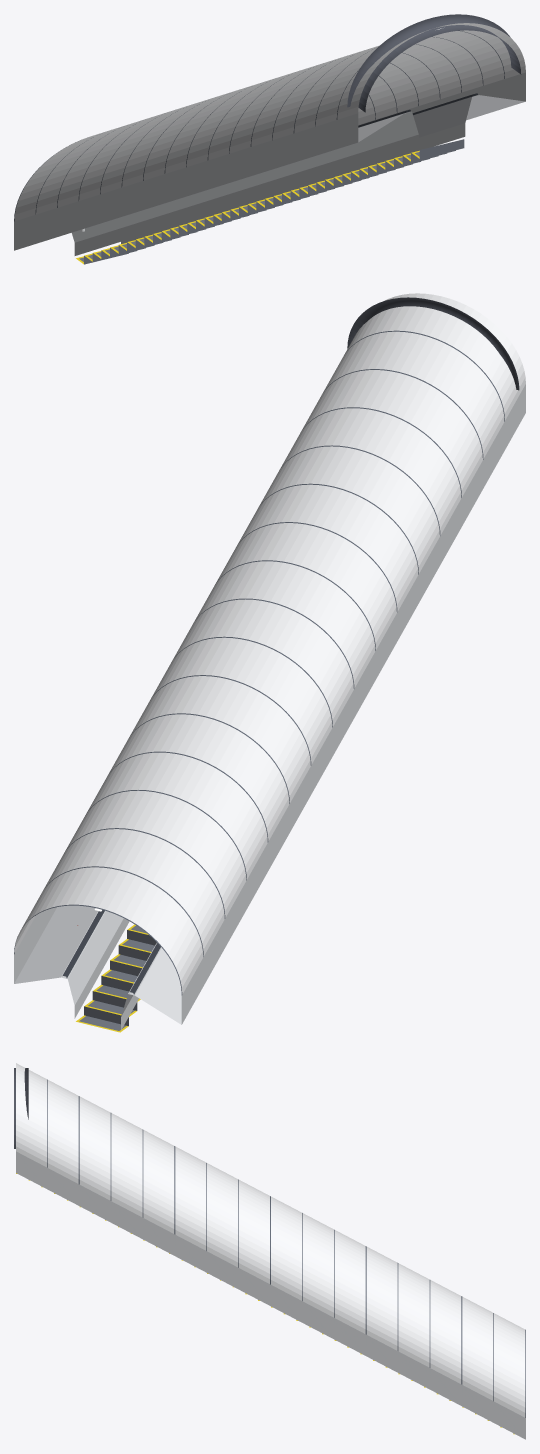
The model's file is escalator.glb.
The picture shows the model from 3 angles, top to bottom: view 1: azimuth 30°, elevation 25°; view 2: azimuth 150°, elevation 25°; view 3: azimuth 270°, elevation 25°; orthographic projection. The views are drawn at different scales.
Parts seen in each view (by area): view 1: Tunnel_Arch_Panels, Balustrades, Tunnel_Wall_Panels, Escalator_Steps, Entrance_Beam, Handrails; view 2: Tunnel_Arch_Panels, Tunnel_Wall_Panels, Balustrades, Escalator_Steps, Entrance_Beam; view 3: Tunnel_Arch_Panels, Tunnel_Wall_Panels.
Part boxes in pixels (x1,y1,x2,y2): Tunnel_Arch_Panels: [14, 23, 525, 221]; Balustrades: [72, 95, 524, 255]; Tunnel_Wall_Panels: [14, 72, 525, 250]; Escalator_Steps: [76, 139, 464, 264]; Entrance_Beam: [347, 14, 521, 112]; Handrails: [358, 93, 477, 127]; Tunnel_Arch_Panels: [14, 293, 525, 995]; Tunnel_Wall_Panels: [14, 384, 525, 1024]; Balustrades: [14, 905, 181, 1030]; Escalator_Steps: [76, 924, 156, 1032]; Entrance_Beam: [347, 297, 519, 390]; Tunnel_Arch_Panels: [16, 1063, 525, 1417]; Tunnel_Wall_Panels: [16, 1151, 525, 1439].
Bounding box in the file's own units: 4 × 10.68 × 13.91.
